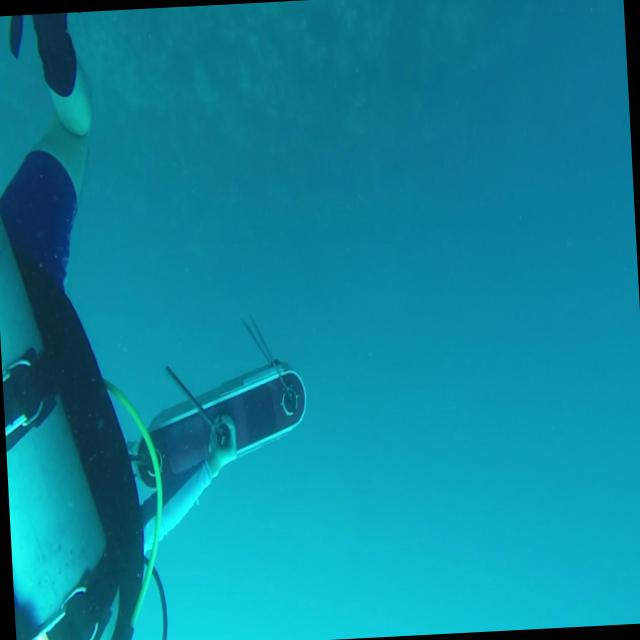human: (0, 1, 317, 640)
